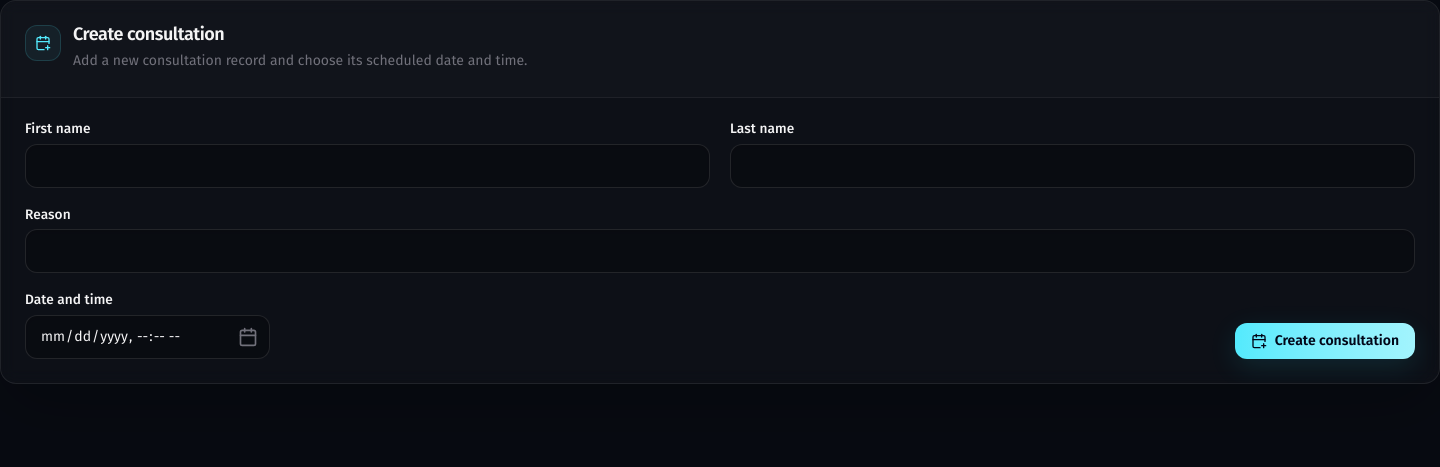
Test: should preserve the form when consultation creation fails
This screenshot has width=1440, height=467.
Type "Paul" into the field labelled "First name".
click(368, 166); type("Paul")  # box x1=25 y1=144 x2=710 y2=188
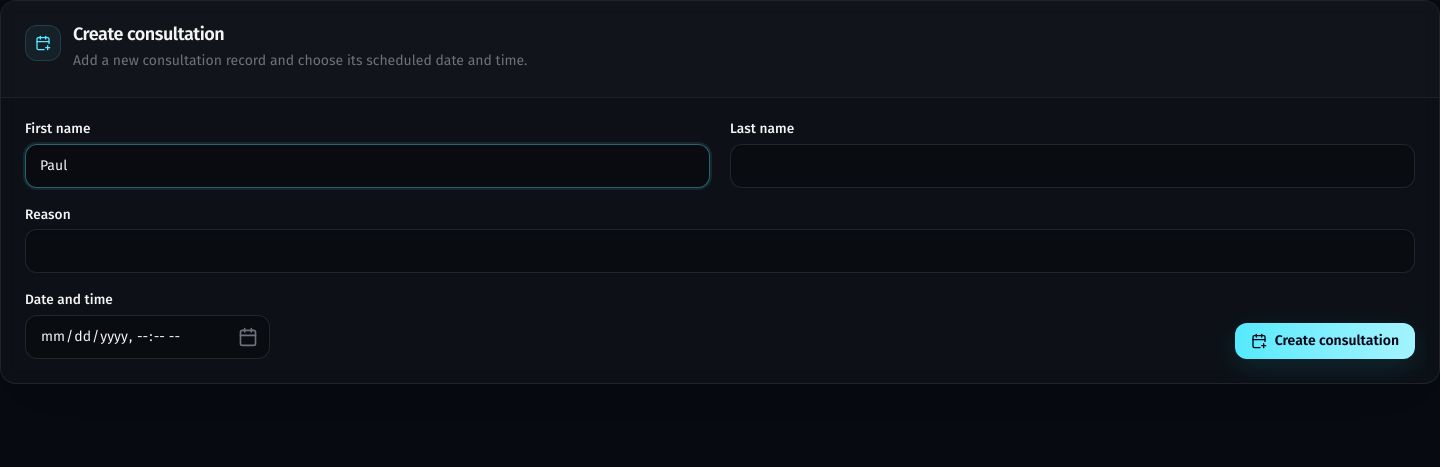
Type "Hogan" into the field labelled "Last name".
click(1072, 166); type("Hogan")  # box x1=730 y1=144 x2=1415 y2=188
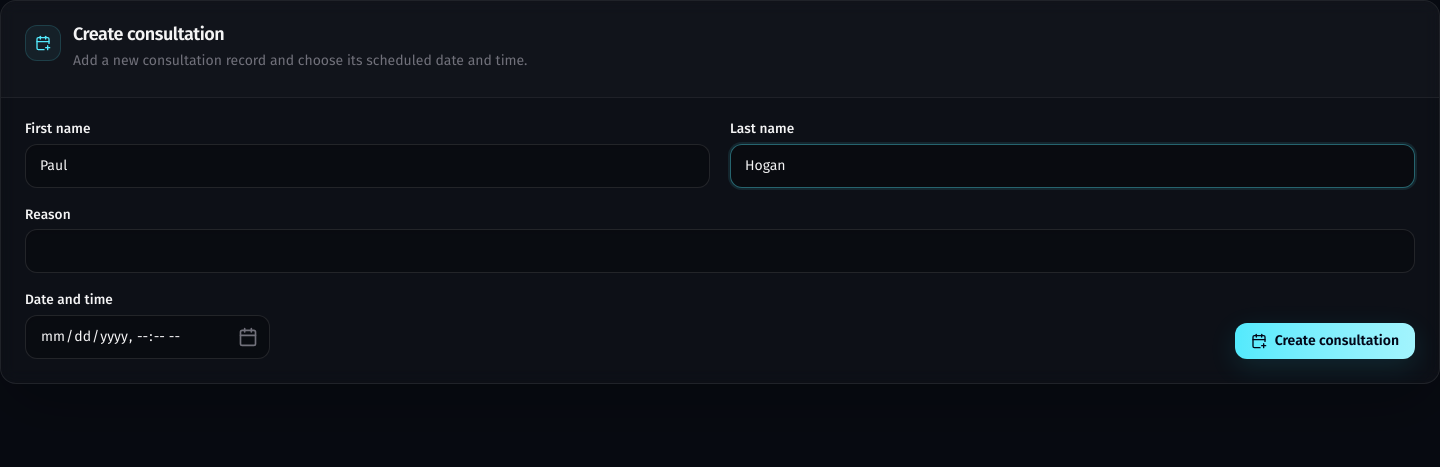
Type "Acting classes for Crocodile Dundee or Hogan the Bogan" into the field labelled "Reason".
click(720, 251); type("Acting classes for Crocodile Dundee or Hogan the Bogan")  # box x1=25 y1=229 x2=1415 y2=273
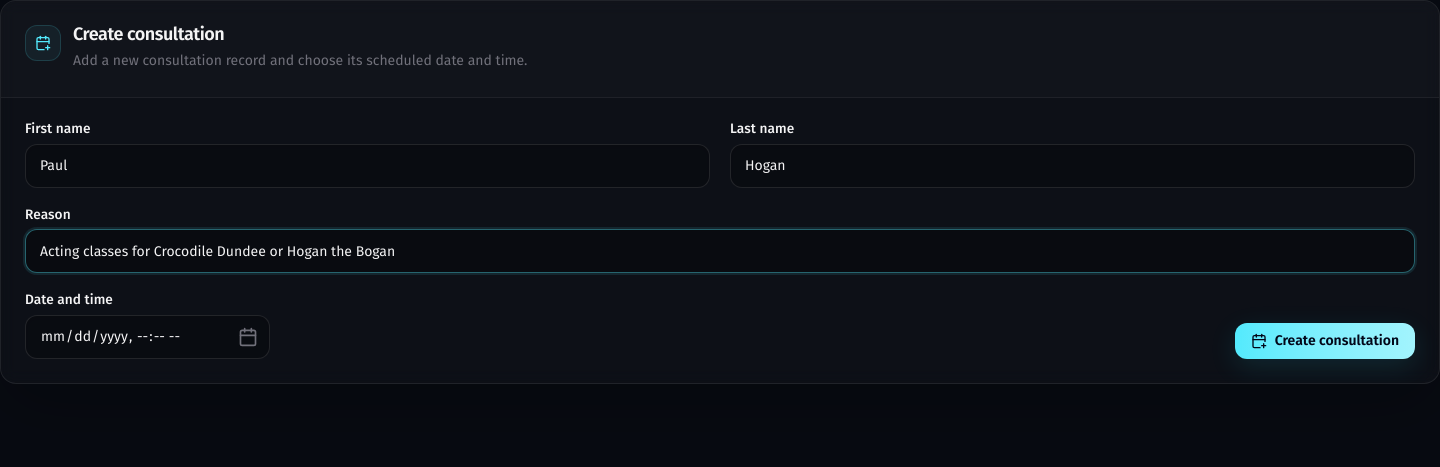
Type "2099-06-01T10:30" into the field with test id "scheduled-for-input".
click(148, 337); type("2099-06-01T10:30")  # box x1=25 y1=315 x2=270 y2=359
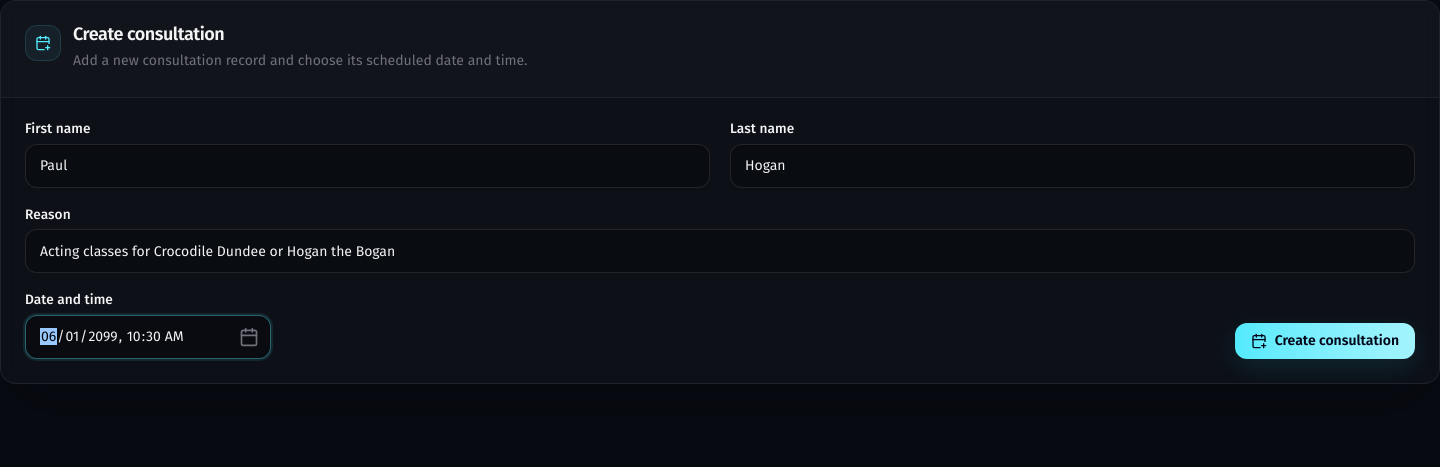
Click the button with test id "create-consultation-button".
click(1325, 341)  # box x1=1235 y1=323 x2=1415 y2=359
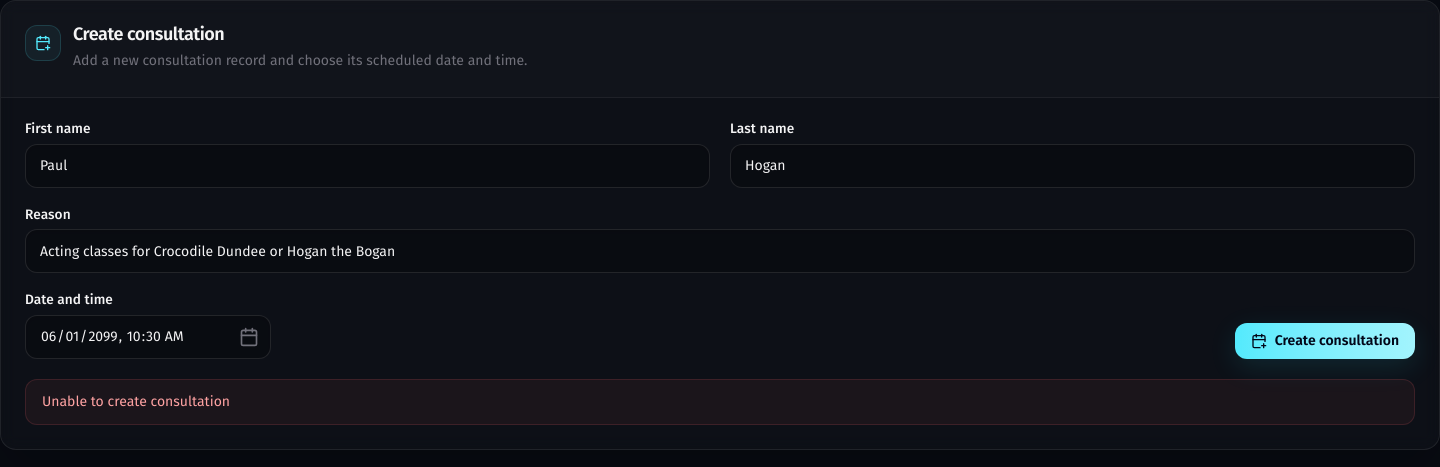
expect the message reads "Unable to create consultation": met, box x1=42 y1=393 x2=230 y2=410
